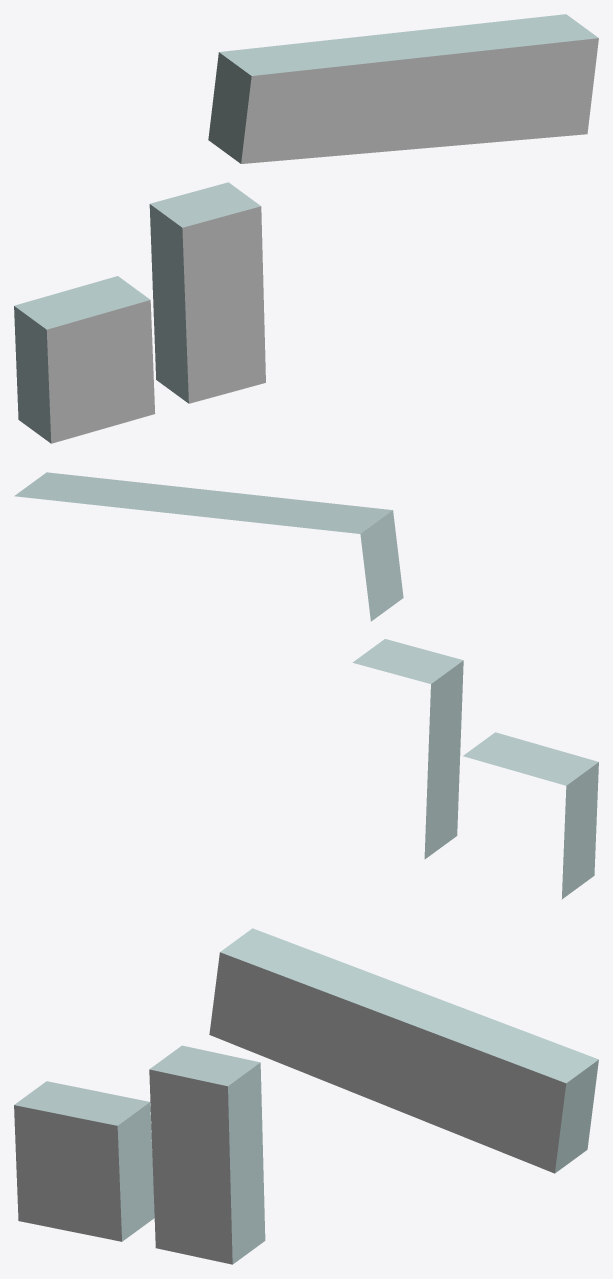
3 views of the same model, one above another, from view 1: azimuth 30°, elevation 25°; view 2: azimuth 150°, elevation 25°; view 3: azimuth 330°, elevation 25° (orthographic).
Visible parts, largest first — view 1: 0_2_3_2_3_0_1_2_0; view 2: 0_2_3_2_3_0_1_2_0; view 3: 0_2_3_2_3_0_1_2_0.
Boxes of the visible parts, x1=… form: 0_2_3_2_3_0_1_2_0: x1=14, y1=14, x2=598, y2=443; 0_2_3_2_3_0_1_2_0: x1=14, y1=472, x2=598, y2=899; 0_2_3_2_3_0_1_2_0: x1=14, y1=928, x2=598, y2=1264.
Size of the model in its own units: 29.22 by 16.06 by 3.07.
